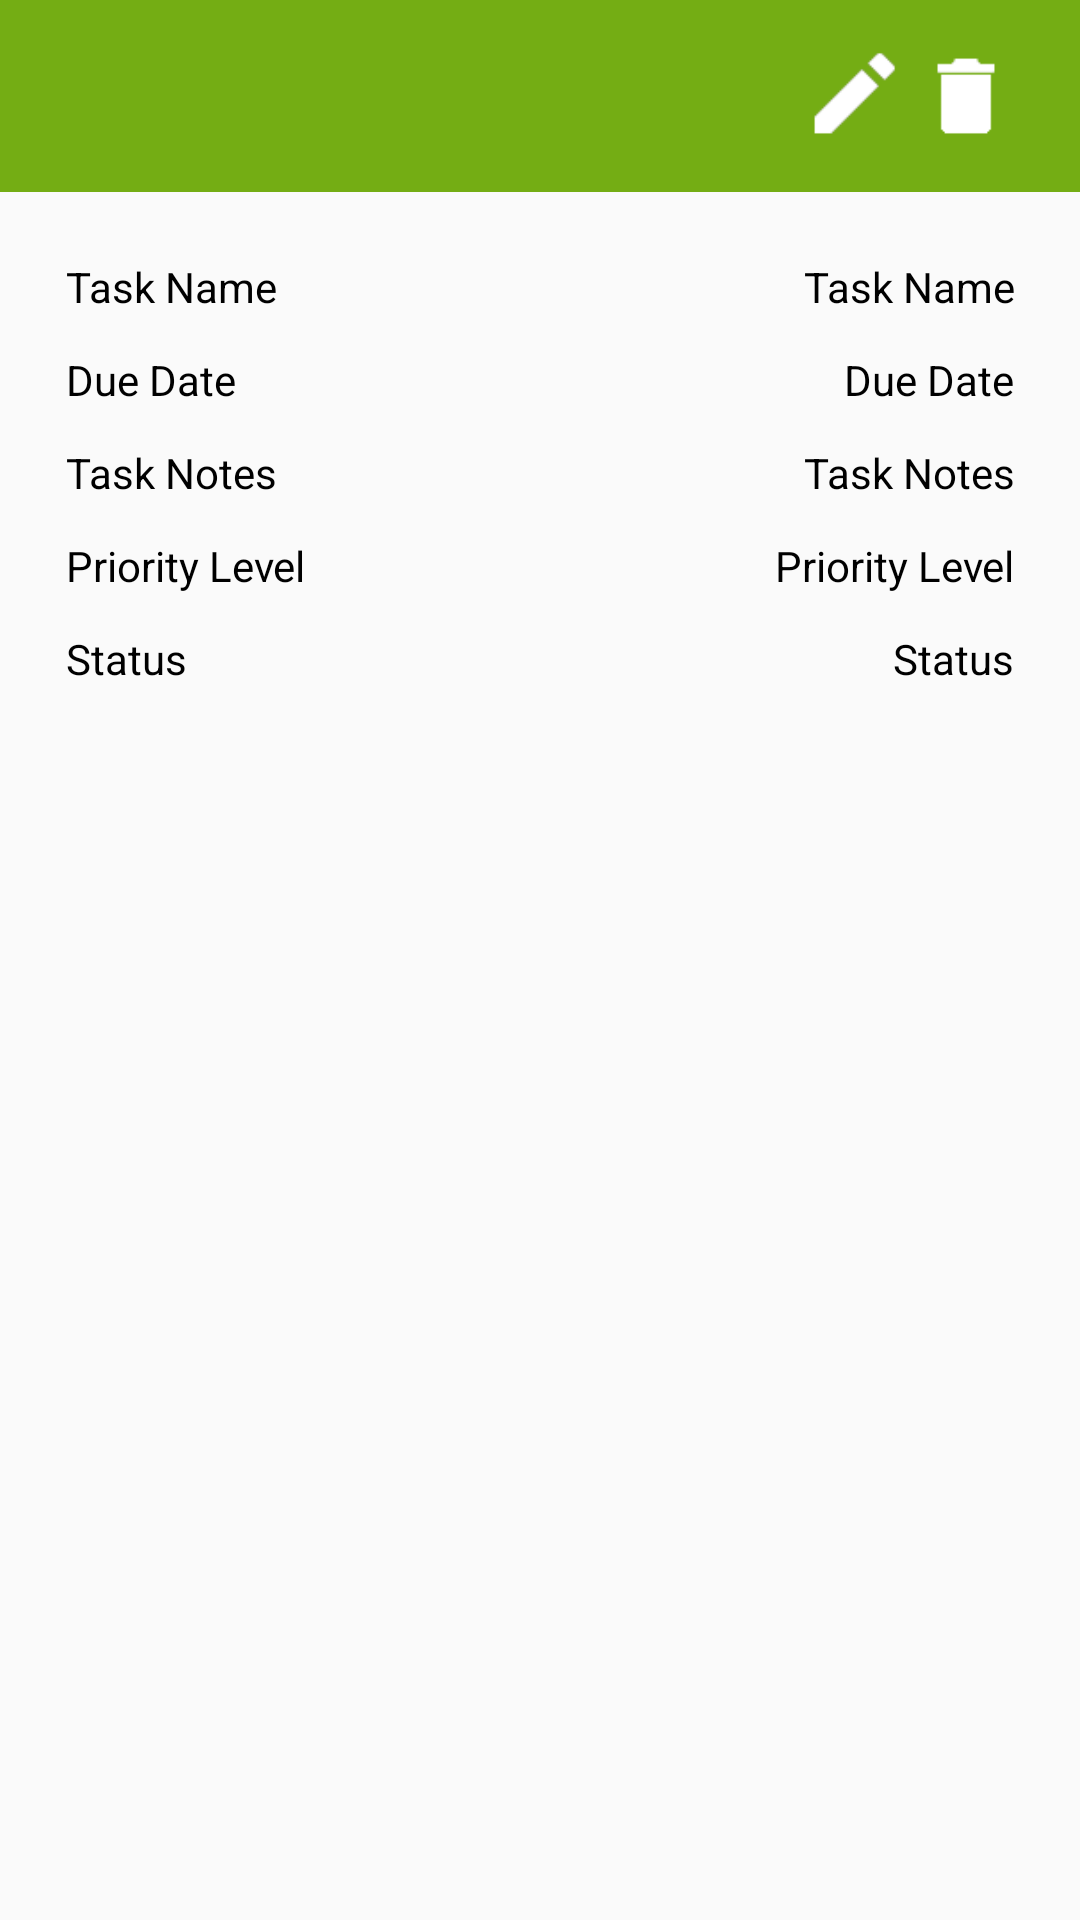

Locate icon controls on the screen. Image size 1080 × 1920, boxes as (x1, y1, x2, y2).
delete: (937, 58, 995, 134)
mode edit: (814, 53, 895, 134)
